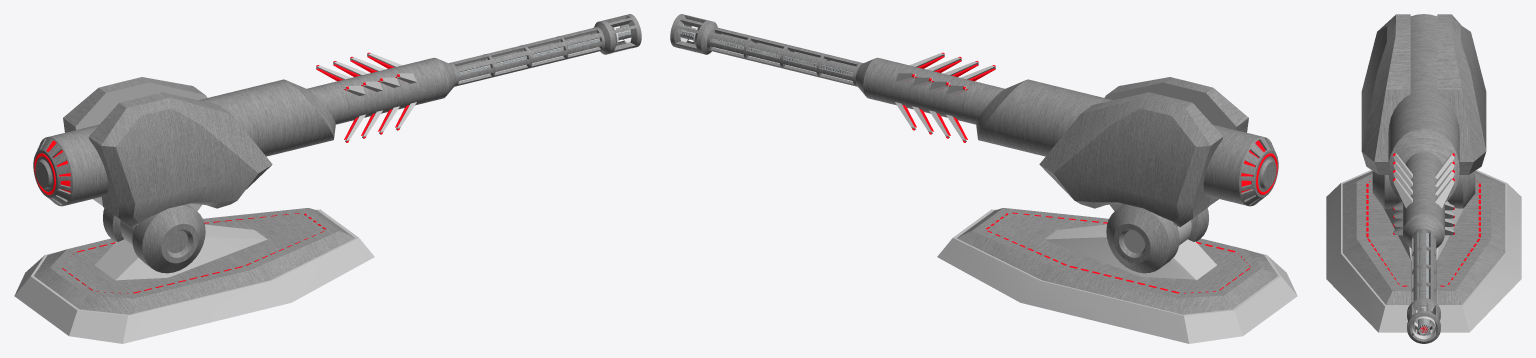
The model's file is BFG.fbx.
The picture shows the model from 3 angles, left to right: view 1: azimuth 30°, elevation 25°; view 2: azimuth 150°, elevation 25°; view 3: azimuth 270°, elevation 25°; orthographic projection.
Visible parts, largest first — view 1: BFG; view 2: BFG; view 3: BFG.
Boxes of the visible parts, x1,y1,x2,y2 form: BFG: (14, 14, 641, 343); BFG: (670, 14, 1297, 343); BFG: (1326, 14, 1521, 343).
Size of the model in its own units: 1179 by 381 by 335.
